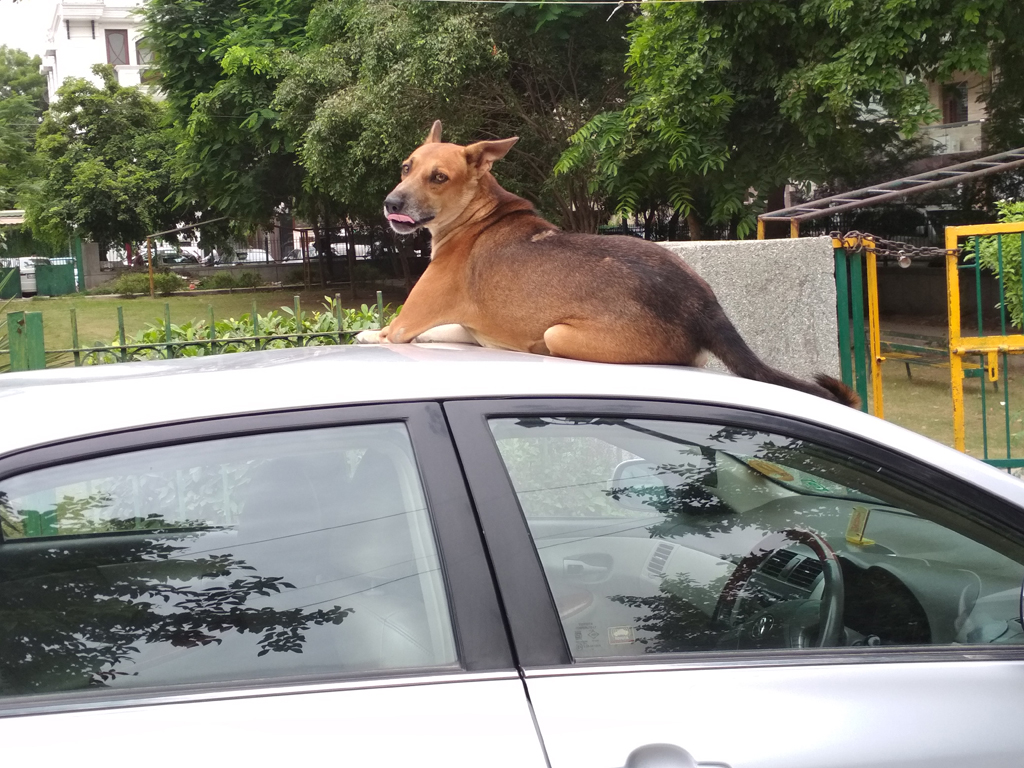dog: (355, 120, 860, 442)
